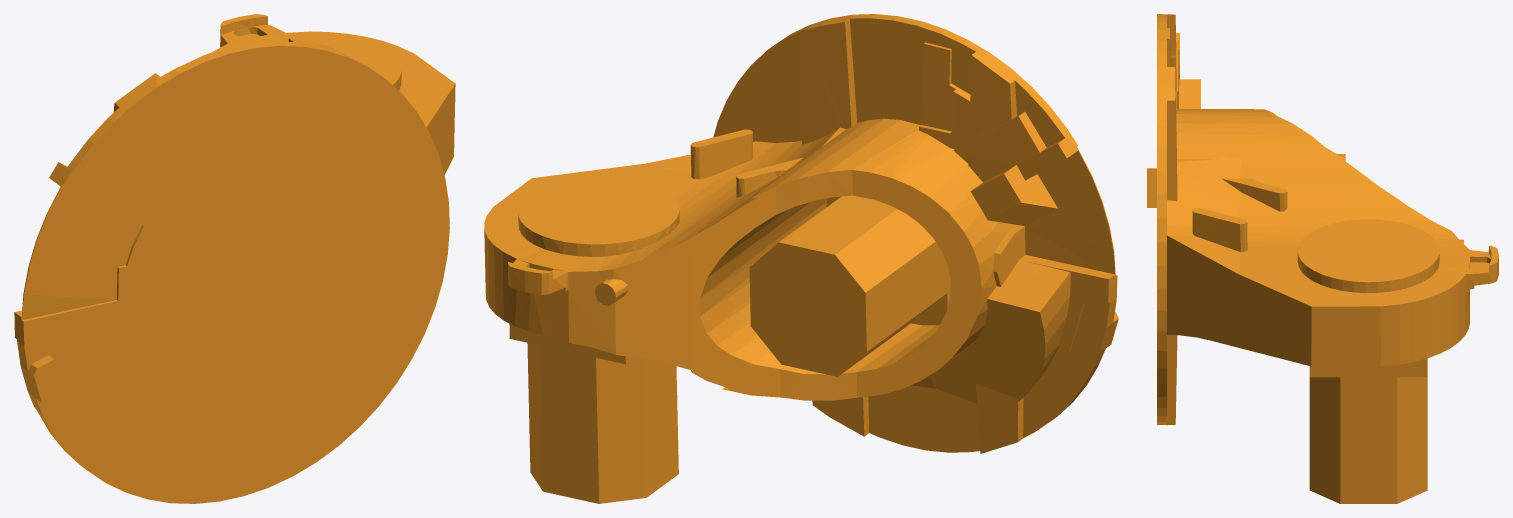
The model's file is KukaK6R900Link1.dae.
The picture shows the model from 3 angles, left to right: view 1: azimuth 30°, elevation 25°; view 2: azimuth 150°, elevation 25°; view 3: azimuth 270°, elevation 25°; orthographic projection. The views are drawn at different scales.
Parts seen in each view (by area): view 1: KUKA_K6Link1; view 2: KUKA_K6Link1; view 3: KUKA_K6Link1.
Boxes of the visible parts, bbox=[...] form: KUKA_K6Link1: bbox=[14, 14, 455, 503]; KUKA_K6Link1: bbox=[484, 14, 1118, 503]; KUKA_K6Link1: bbox=[1147, 14, 1498, 503].
Size of the model in its own units: 0.3322 by 0.2309 by 0.2698.
